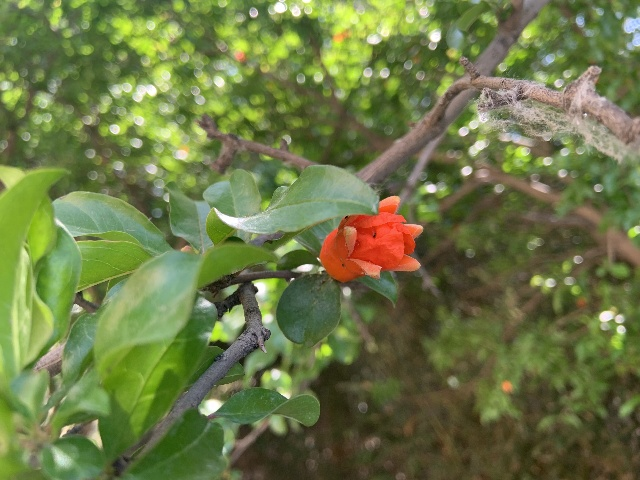flower: (320, 196, 423, 283)
